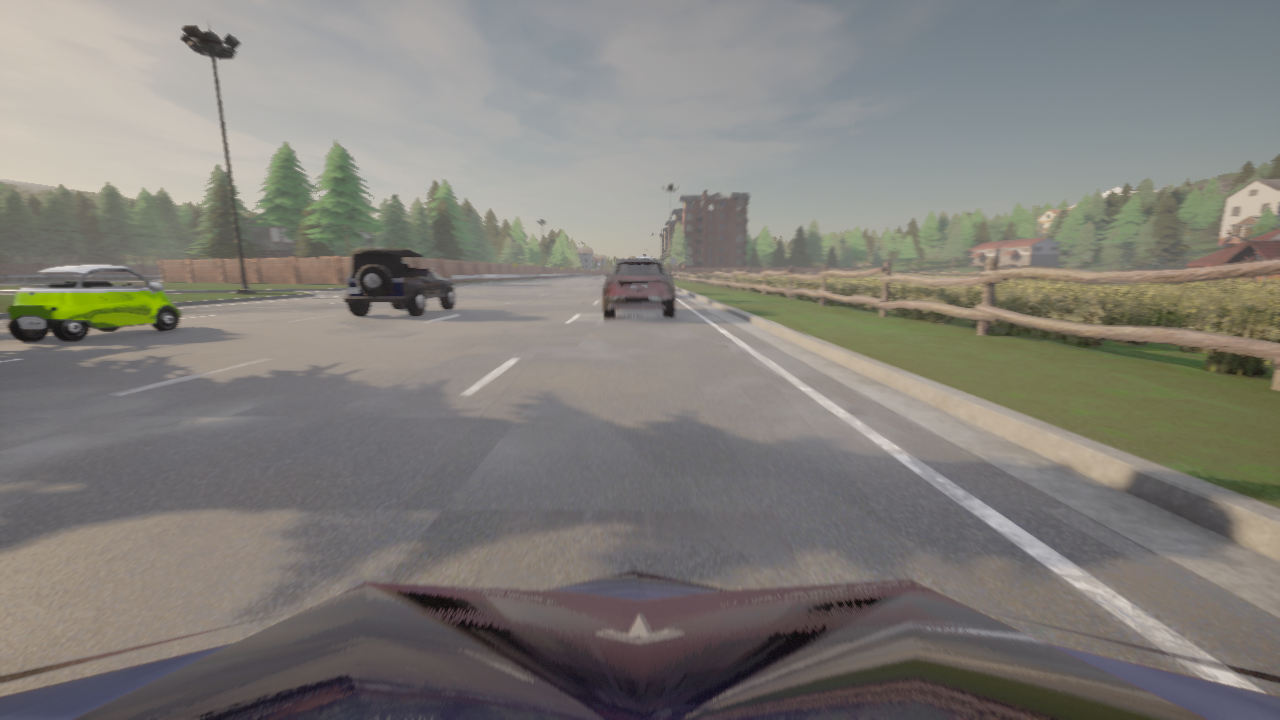cyclist: (0, 569, 1279, 719), (8, 264, 180, 340), (342, 247, 455, 316), (603, 258, 674, 317), (625, 256, 652, 258)
